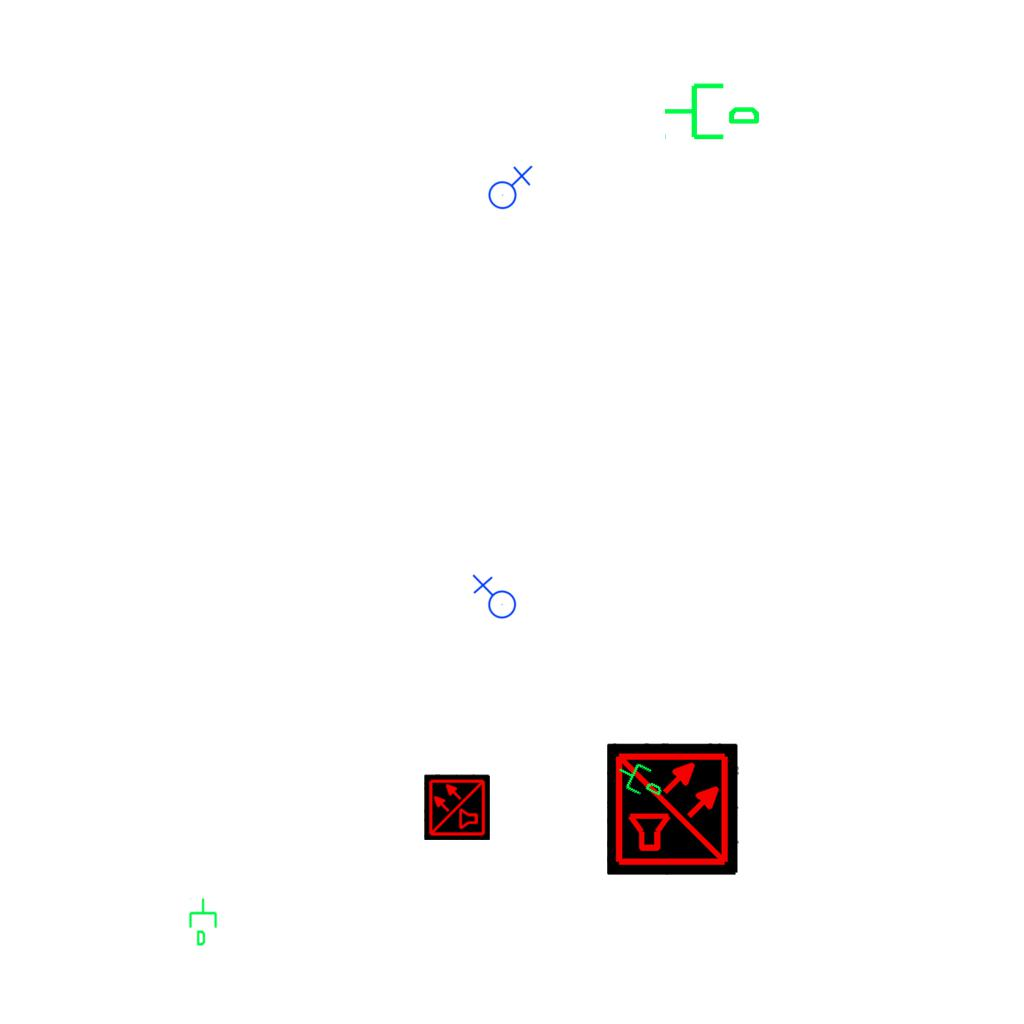Datenanschluss_einfach: (662, 75, 762, 144), (611, 752, 671, 806), (187, 897, 221, 947)
Elektroanschluss_allgemein_230V_Geraeteanschlussdose_230V: (470, 574, 517, 623), (484, 163, 533, 210)
OKW_Multisensormelder_(Kombination_optischer_Rauch-Kahlenmonoxid_Waerme-Melder): (607, 743, 739, 875), (424, 774, 490, 840)
